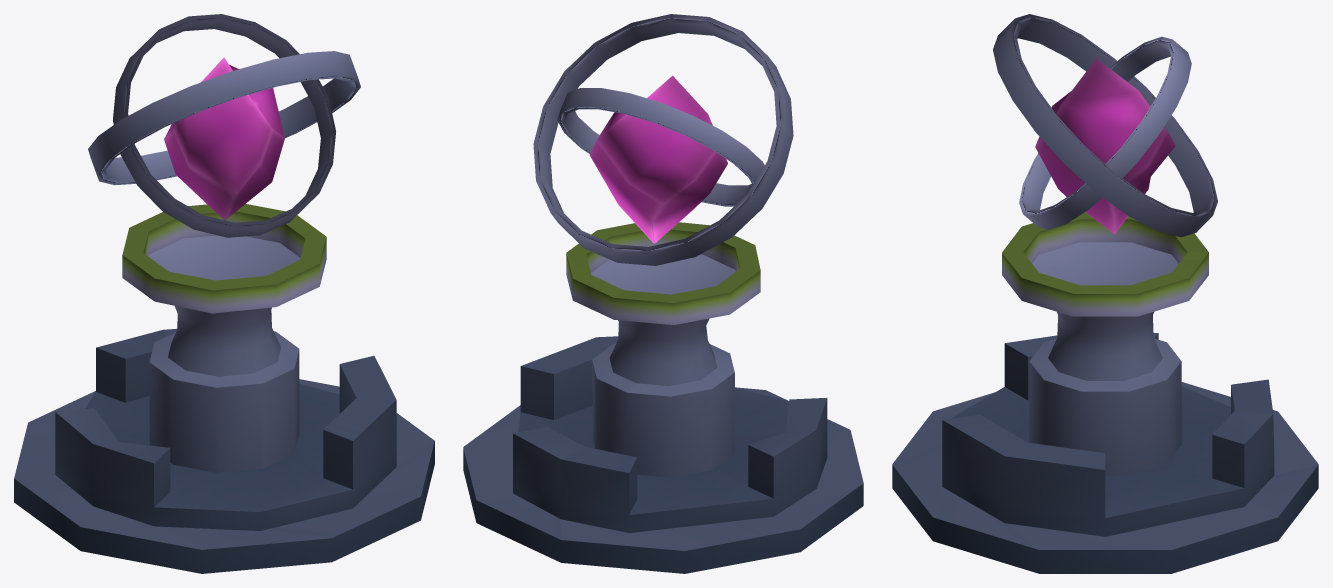
File: Shrine2.fbx
3 renders of one model, left to right at view 1: azimuth 30°, elevation 25°; view 2: azimuth 150°, elevation 25°; view 3: azimuth 270°, elevation 25°, orthographic. The views are drawn at different scales.
Visible parts, largest first — view 1: Fountain, Ring1, Crystal, Ring2; view 2: Fountain, Ring1, Crystal, Ring2; view 3: Fountain, Ring1, Crystal, Ring2.
Boxes of the visible parts, x1,y1,x2,y2 form: Fountain: (14, 204, 434, 573); Ring1: (88, 51, 360, 185); Crystal: (164, 57, 284, 220); Ring2: (113, 14, 335, 237); Fountain: (463, 222, 863, 573); Ring1: (533, 14, 793, 265); Crystal: (589, 75, 727, 243); Ring2: (557, 88, 764, 206); Fountain: (892, 212, 1318, 573); Ring1: (993, 14, 1217, 237); Crystal: (1035, 58, 1175, 234); Ring2: (1019, 36, 1191, 229).
Size of the model in its own units: 369 by 457 by 388.
